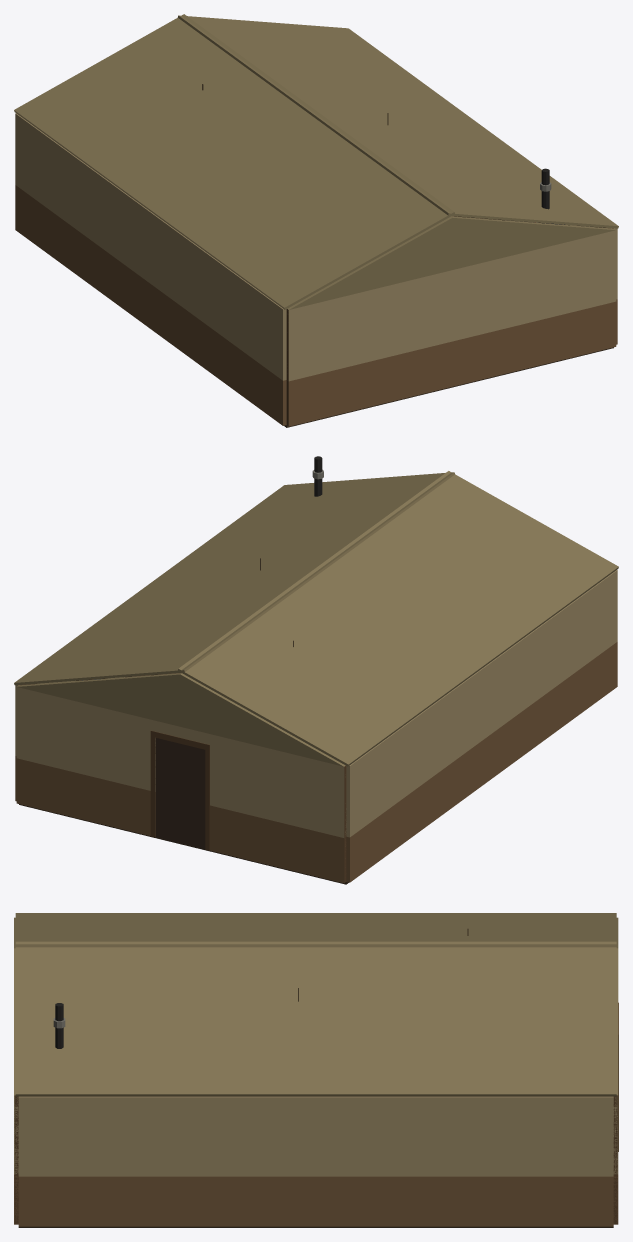
The model's file is BunkRoomD.glb.
The picture shows the model from 3 angles, top to bottom: view 1: azimuth 30°, elevation 25°; view 2: azimuth 150°, elevation 25°; view 3: azimuth 270°, elevation 25°; orthographic projection. The views are drawn at different scales.
Parts seen in each view (by area): view 1: BunkRoomD; view 2: BunkRoomD; view 3: BunkRoomD.
Boxes of the visible parts, left/top/right/bottom form: BunkRoomD: left=14, top=14, right=618, bottom=427; BunkRoomD: left=14, top=456, right=618, bottom=884; BunkRoomD: left=14, top=913, right=618, bottom=1227.
Size of the model in its own units: 7.36 by 3.71 by 10.37.
